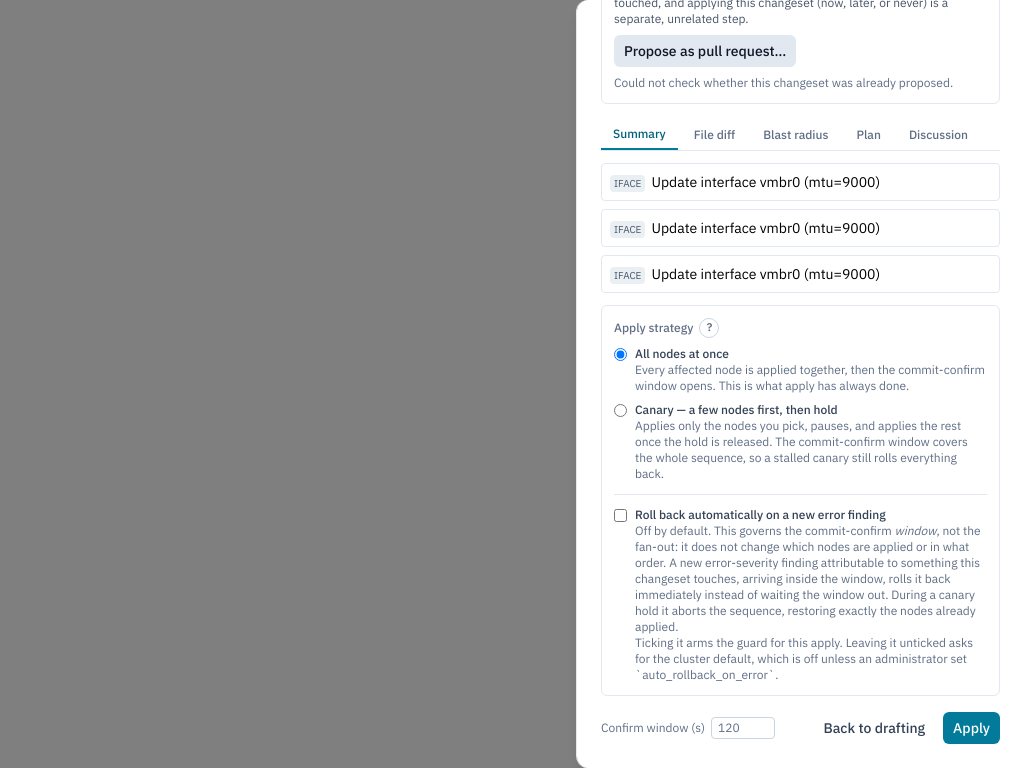
Test: ReviewApplyScreen — apply strategy (T-3005) › blocks Apply, with the server's own reason, when the canary covers every node
(page scrolled)
Click the radio button labelled "Canary".
click(620, 410)  # box top-left (614, 404), bottom-right (627, 417)
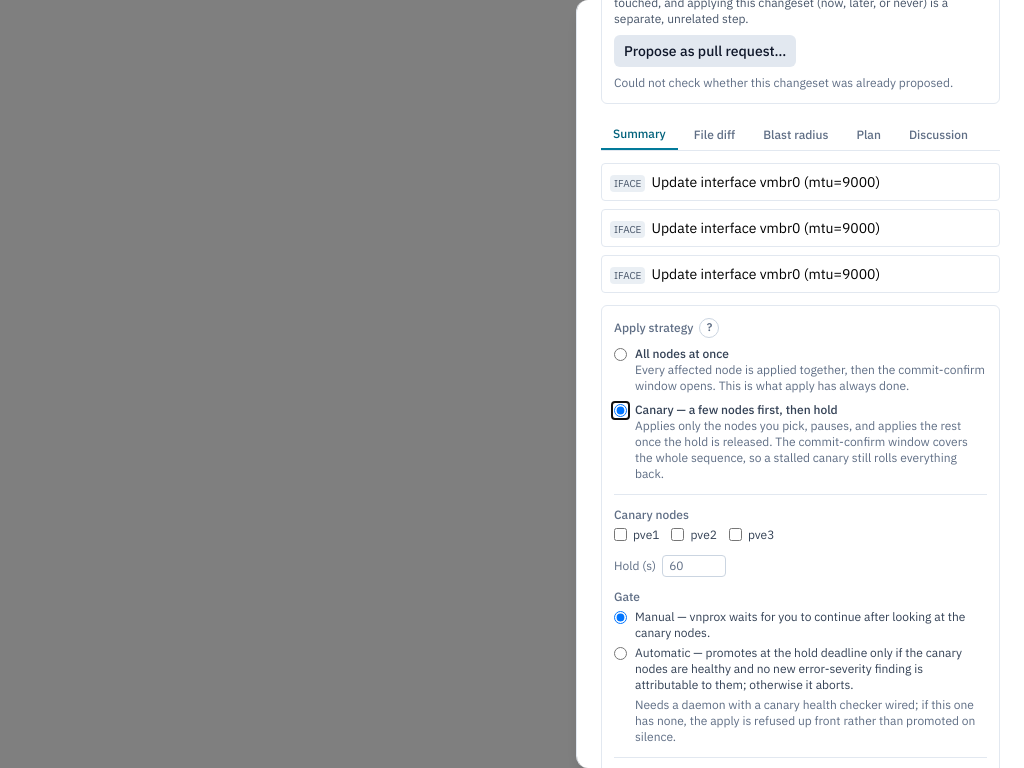
Click the checkbox labelled "pve1".
click(620, 535)  # box top-left (614, 528), bottom-right (627, 542)
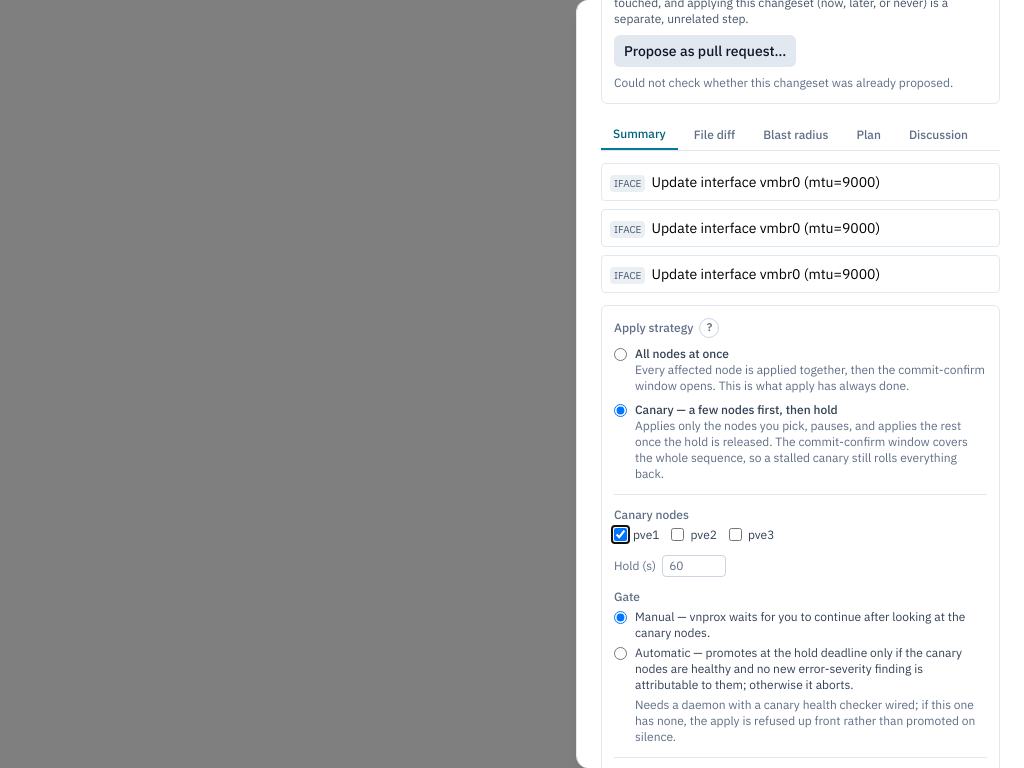
Click the checkbox labelled "pve2".
click(678, 535)  # box top-left (672, 528), bottom-right (684, 542)
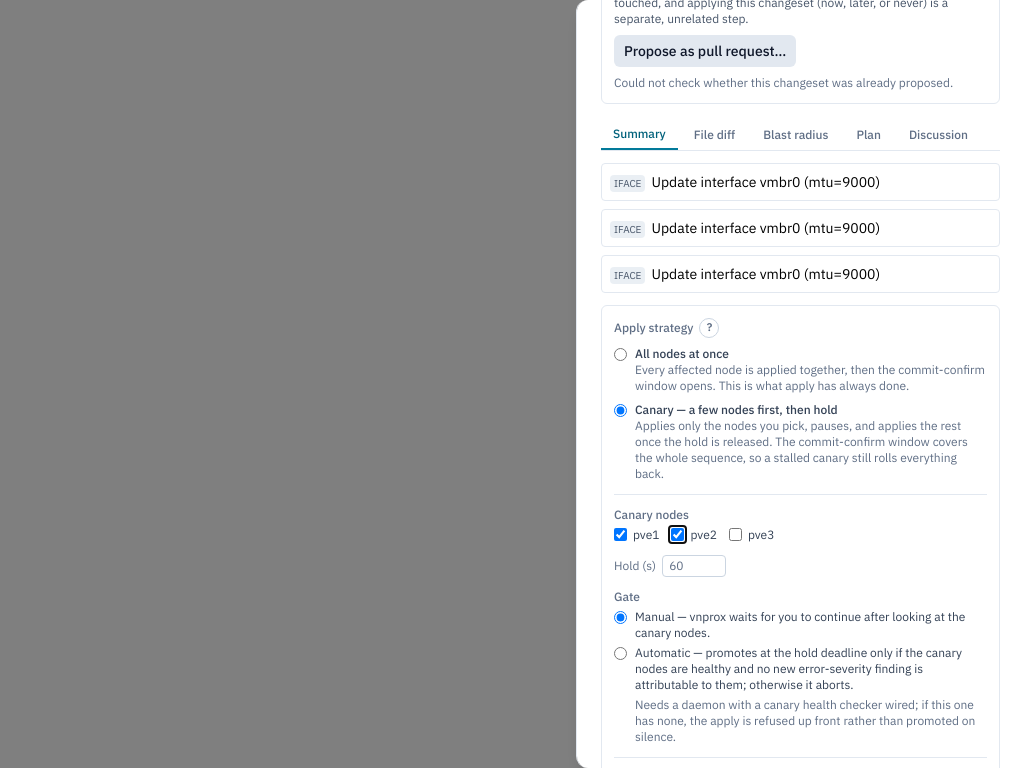
Click the checkbox labelled "pve3".
click(735, 535)  # box top-left (729, 528), bottom-right (742, 542)
(page scrolled)
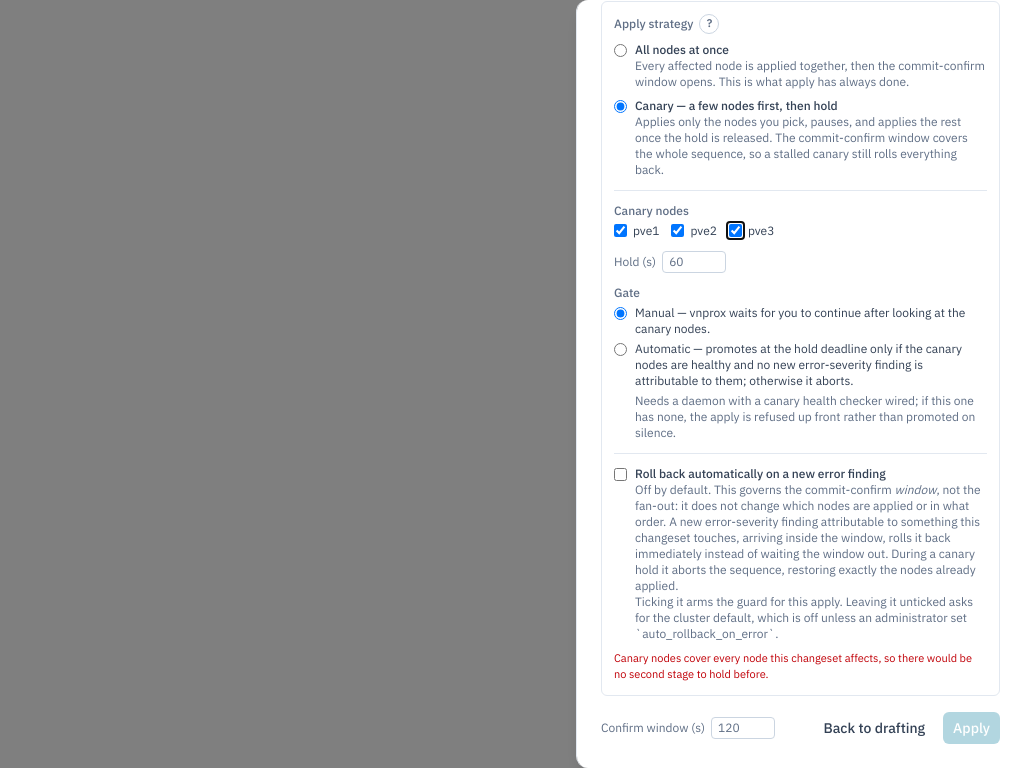
Result: the button "Apply" is disabled at top-left (943, 712), bottom-right (1000, 744)
Result: the message with test id "apply-strategy-error" shows "no second stage" at top-left (614, 651), bottom-right (972, 682)
